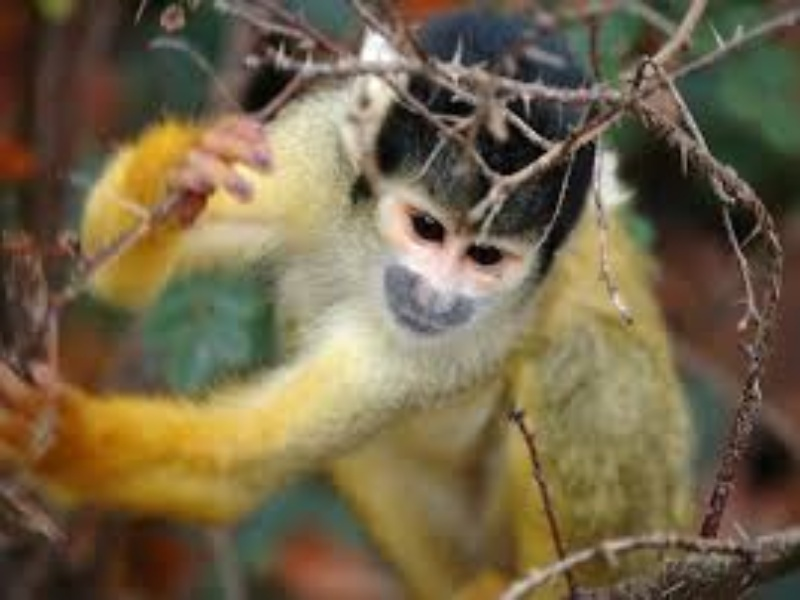monkey: (47, 60, 729, 526)
